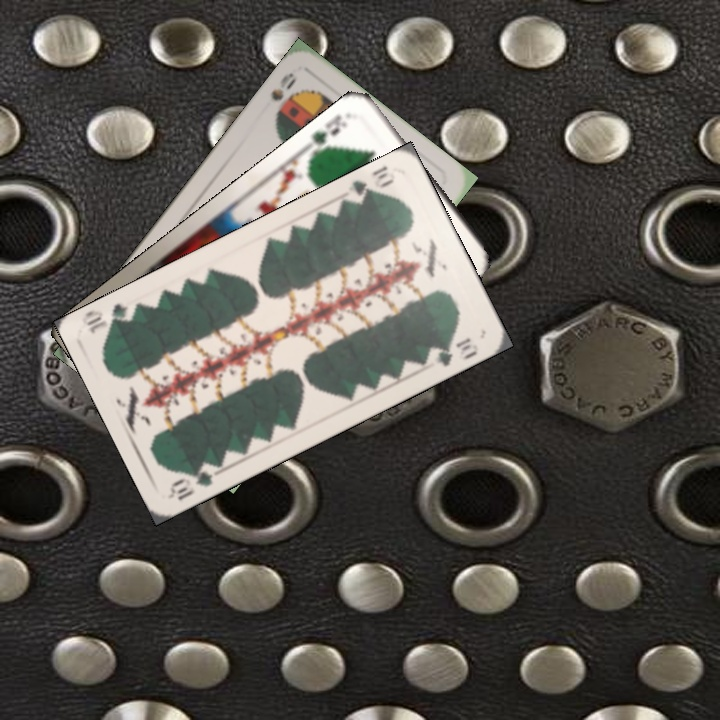G10: (165, 459, 223, 503), (344, 162, 397, 206)
GK: (307, 110, 350, 158)
SO: (267, 68, 300, 124)
